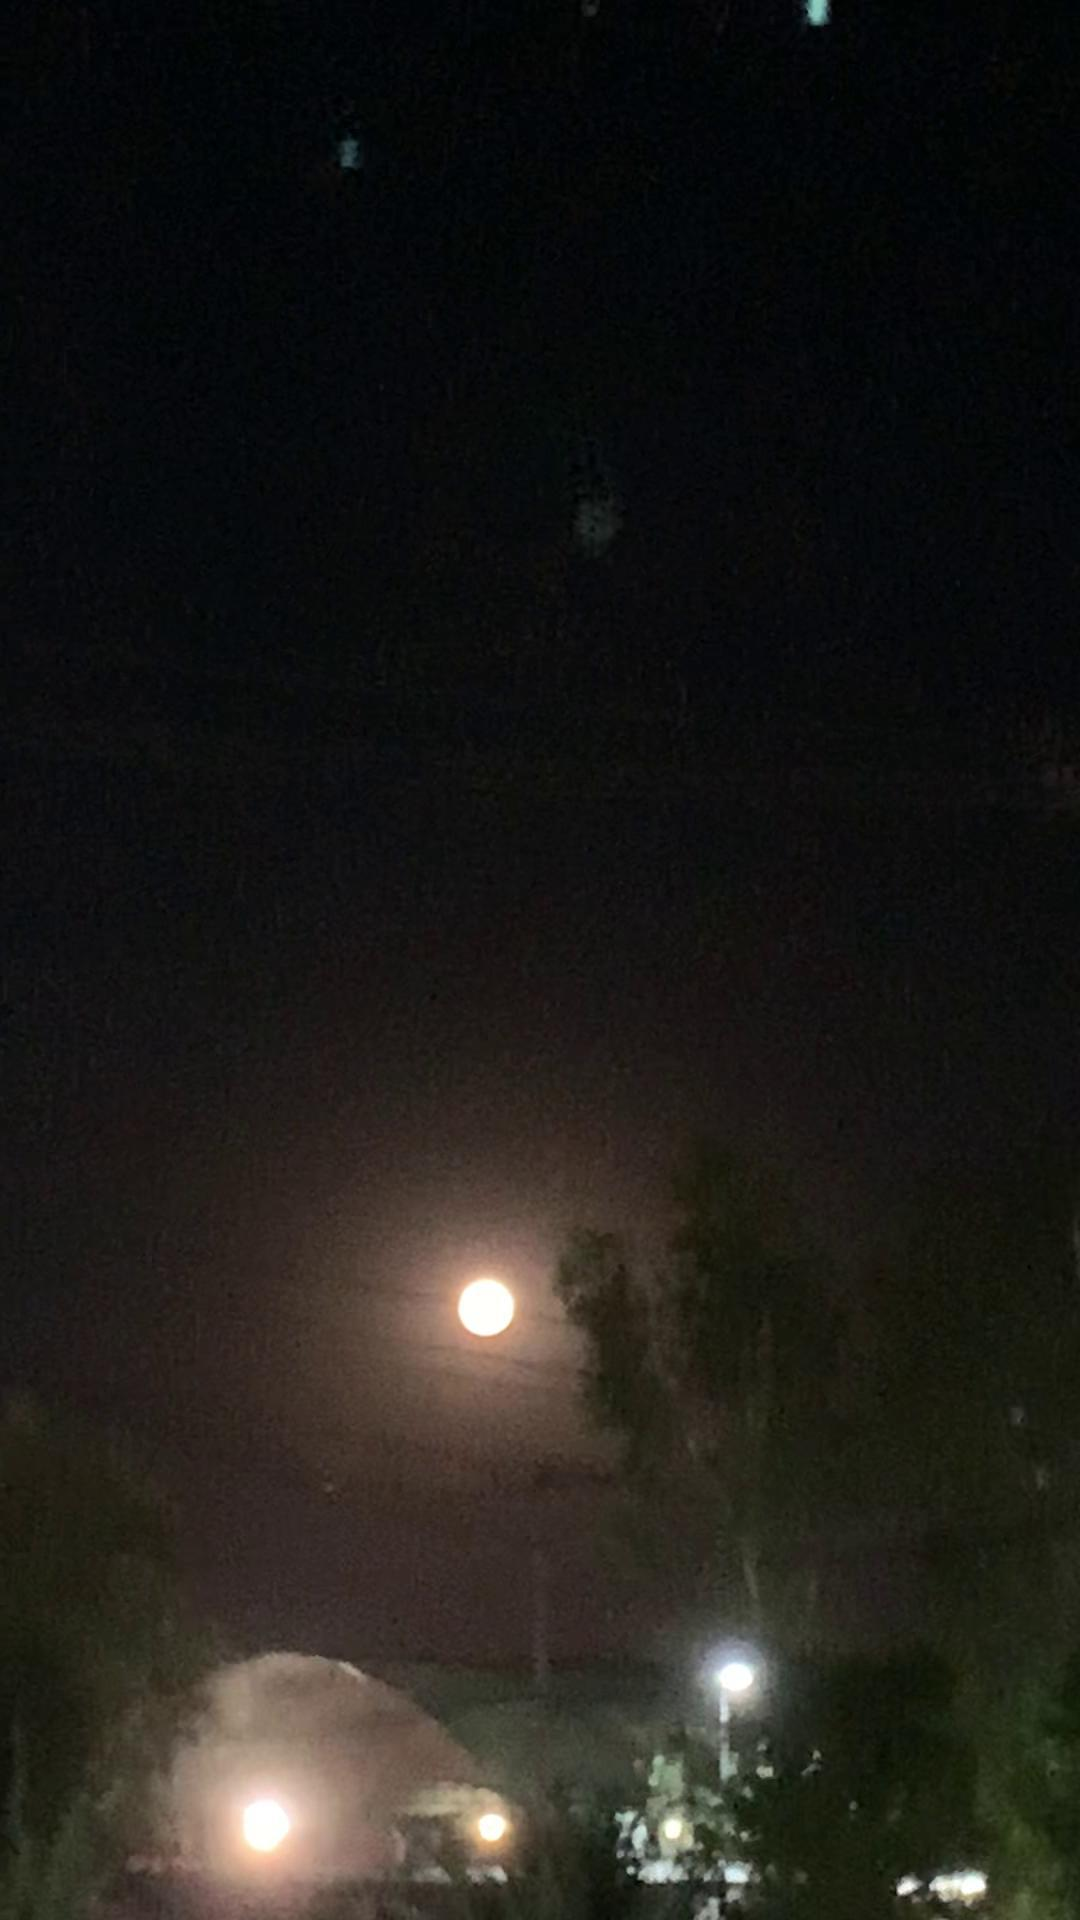moon: (442, 1263, 530, 1340)
